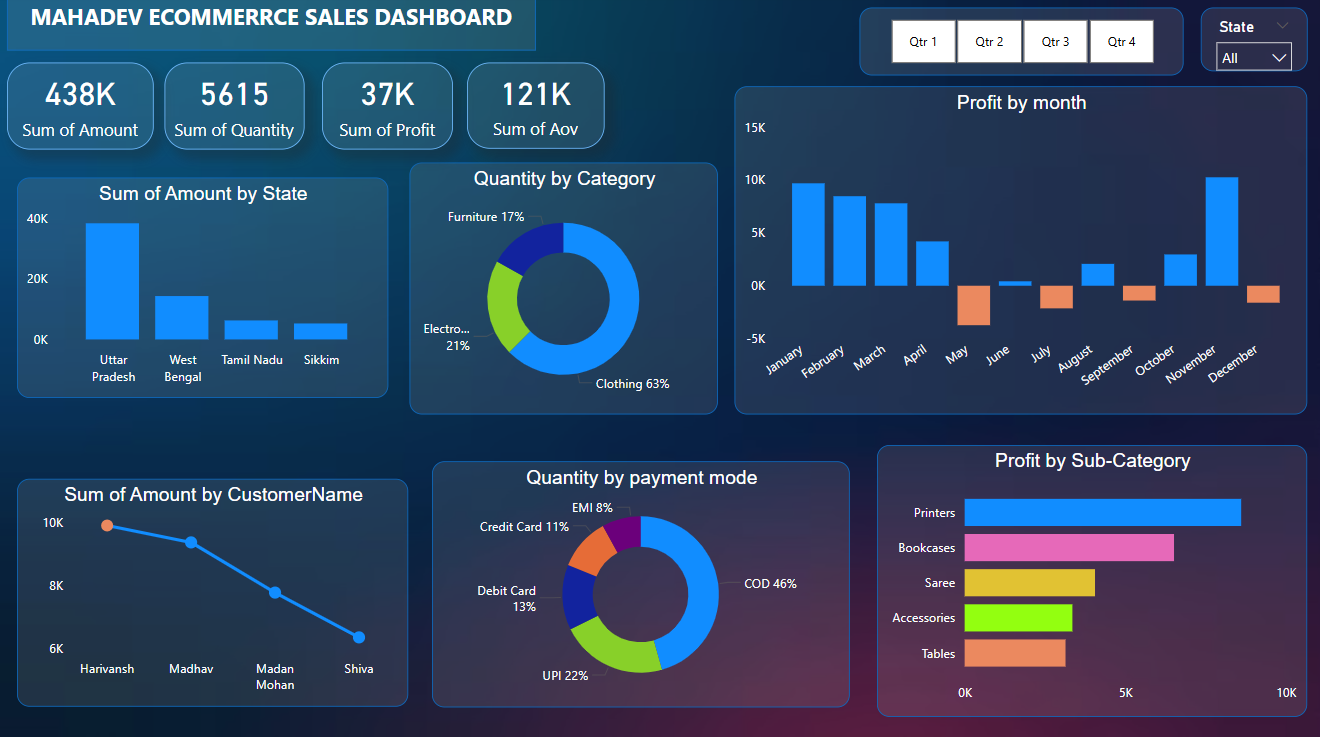

The page's visual inventory and layout, read from the dashboard file:
{"tool":"powerbi","page":{"name":"Page 1","canvas":[1280,720],"ordinal":0},"visuals":[{"type":"textbox","box":[9.6,0,510.5,53.5],"z":0},{"type":"columnChart","title":"Profit by month","fields":{"Category":["Orders.Order Date.Variation.Date Hierarchy.Month"],"Y":["Details.Profit"]},"box":[712.2,87.8,553,317],"z":1000},{"type":"barChart","title":" Profit by Sub-Category","fields":{"Category":["Details.Sub-Category"],"Y":["Details.Profit"]},"box":[848.8,433.7,415.1,262.8],"z":2000},{"type":"donutChart","title":" Quantity by Category","fields":{"Category":["Details.Category"],"Y":["Details.Quantity"]},"box":[397.7,161.6,297.7,243],"z":3000},{"type":"donutChart","title":" Quantity by payment mode","fields":{"Y":["Details.Category"],"Category":["Details.PaymentMode"]},"box":[419.8,450,403.5,237.2],"z":4000},{"type":"card","fields":{"Values":["Details.Amount"]},"box":[9.3,65.1,141.9,83.7],"z":5000},{"type":"card","fields":{"Values":["Details.Quantity"]},"box":[161.6,65.1,134.9,83.7],"z":6000},{"type":"card","fields":{"Values":["Details.Profit"]},"box":[314,65.1,126.7,83.7],"z":7000},{"type":"card","fields":{"Values":["Details.Aov"]},"box":[453.6,65.1,132.7,83.2],"z":8000},{"type":"columnChart","fields":{"Y":["Details.Amount"],"Category":["Orders.State"]},"box":[19.2,175.6,358.1,212.7],"z":9000},{"type":"lineChart","fields":{"Y":["Details.Amount"],"Category":["Orders.CustomerName"]},"box":[19.8,467.4,377.9,219.8],"z":10000},{"type":"slicer","fields":{"Values":["Orders.Order Date.Variation.Date Hierarchy.Quarter"]},"box":[832.9,12.3,312.9,65.9],"z":11000},{"type":"slicer","fields":{"Values":["Orders.State"]},"box":[1162.3,12.3,102.9,61.7],"z":12000}]}

Visuals, with their boxes in screenshot pixels (x1, y1, x2, y2), scaled from the page's 1280x720 canvas onto the 1320x737 screenshot:
textbox: {"x1": 10, "y1": 0, "x2": 536, "y2": 55}
"Profit by month" columnChart: {"x1": 734, "y1": 90, "x2": 1305, "y2": 414}
" Profit by Sub-Category" barChart: {"x1": 875, "y1": 444, "x2": 1303, "y2": 713}
" Quantity by Category" donutChart: {"x1": 410, "y1": 165, "x2": 717, "y2": 414}
" Quantity by payment mode" donutChart: {"x1": 433, "y1": 461, "x2": 849, "y2": 703}
card - Details.Amount: {"x1": 10, "y1": 67, "x2": 156, "y2": 152}
card - Details.Quantity: {"x1": 167, "y1": 67, "x2": 306, "y2": 152}
card - Details.Profit: {"x1": 324, "y1": 67, "x2": 454, "y2": 152}
card - Details.Aov: {"x1": 468, "y1": 67, "x2": 605, "y2": 152}
columnChart - Details.Amount x Orders.State: {"x1": 20, "y1": 180, "x2": 389, "y2": 397}
lineChart - Details.Amount x Orders.CustomerName: {"x1": 20, "y1": 478, "x2": 410, "y2": 703}
slicer - Orders.Order Date.Variation.Date Hierarchy.Quarter: {"x1": 859, "y1": 13, "x2": 1182, "y2": 80}
slicer - Orders.State: {"x1": 1199, "y1": 13, "x2": 1305, "y2": 76}
